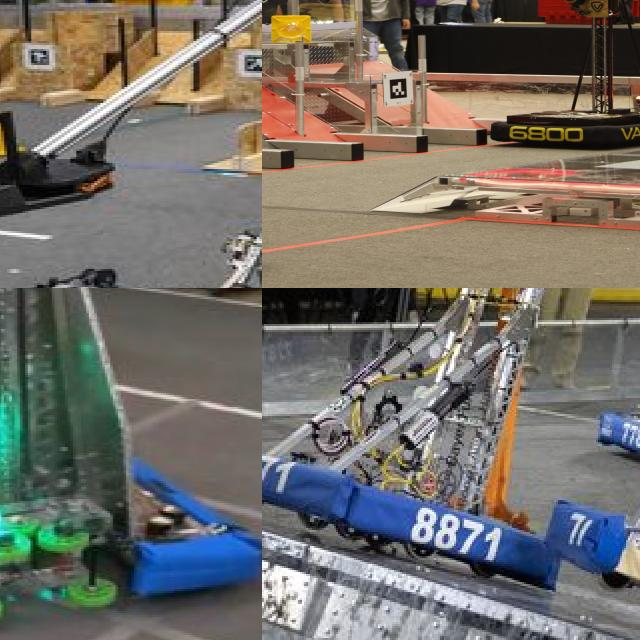FRC-Robots: (262, 288, 571, 601), (0, 288, 262, 612), (0, 0, 262, 288), (330, 0, 640, 162)
